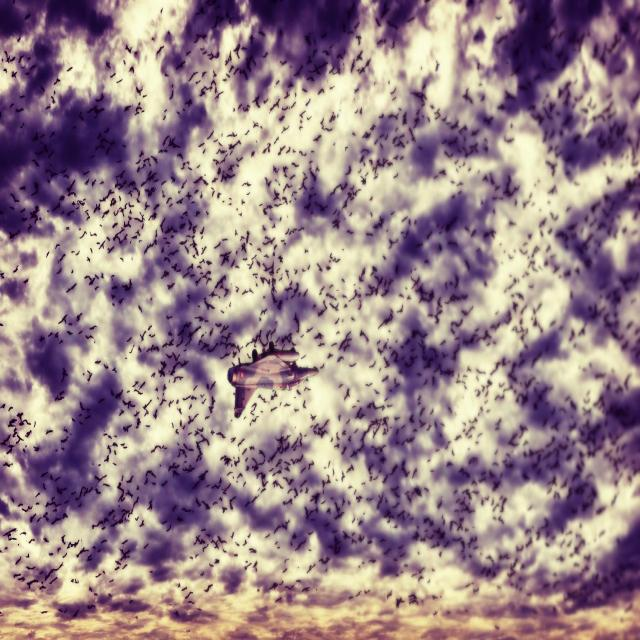airplane: (227, 343, 320, 419)
